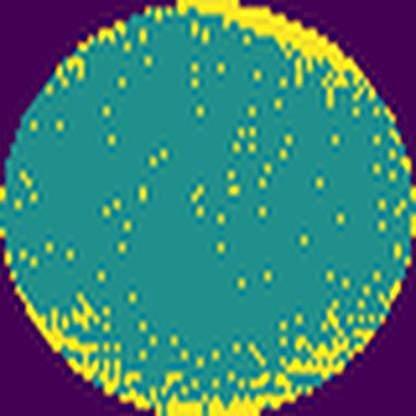Edge-Loc: (0, 263, 413, 416), (173, 0, 383, 108)
